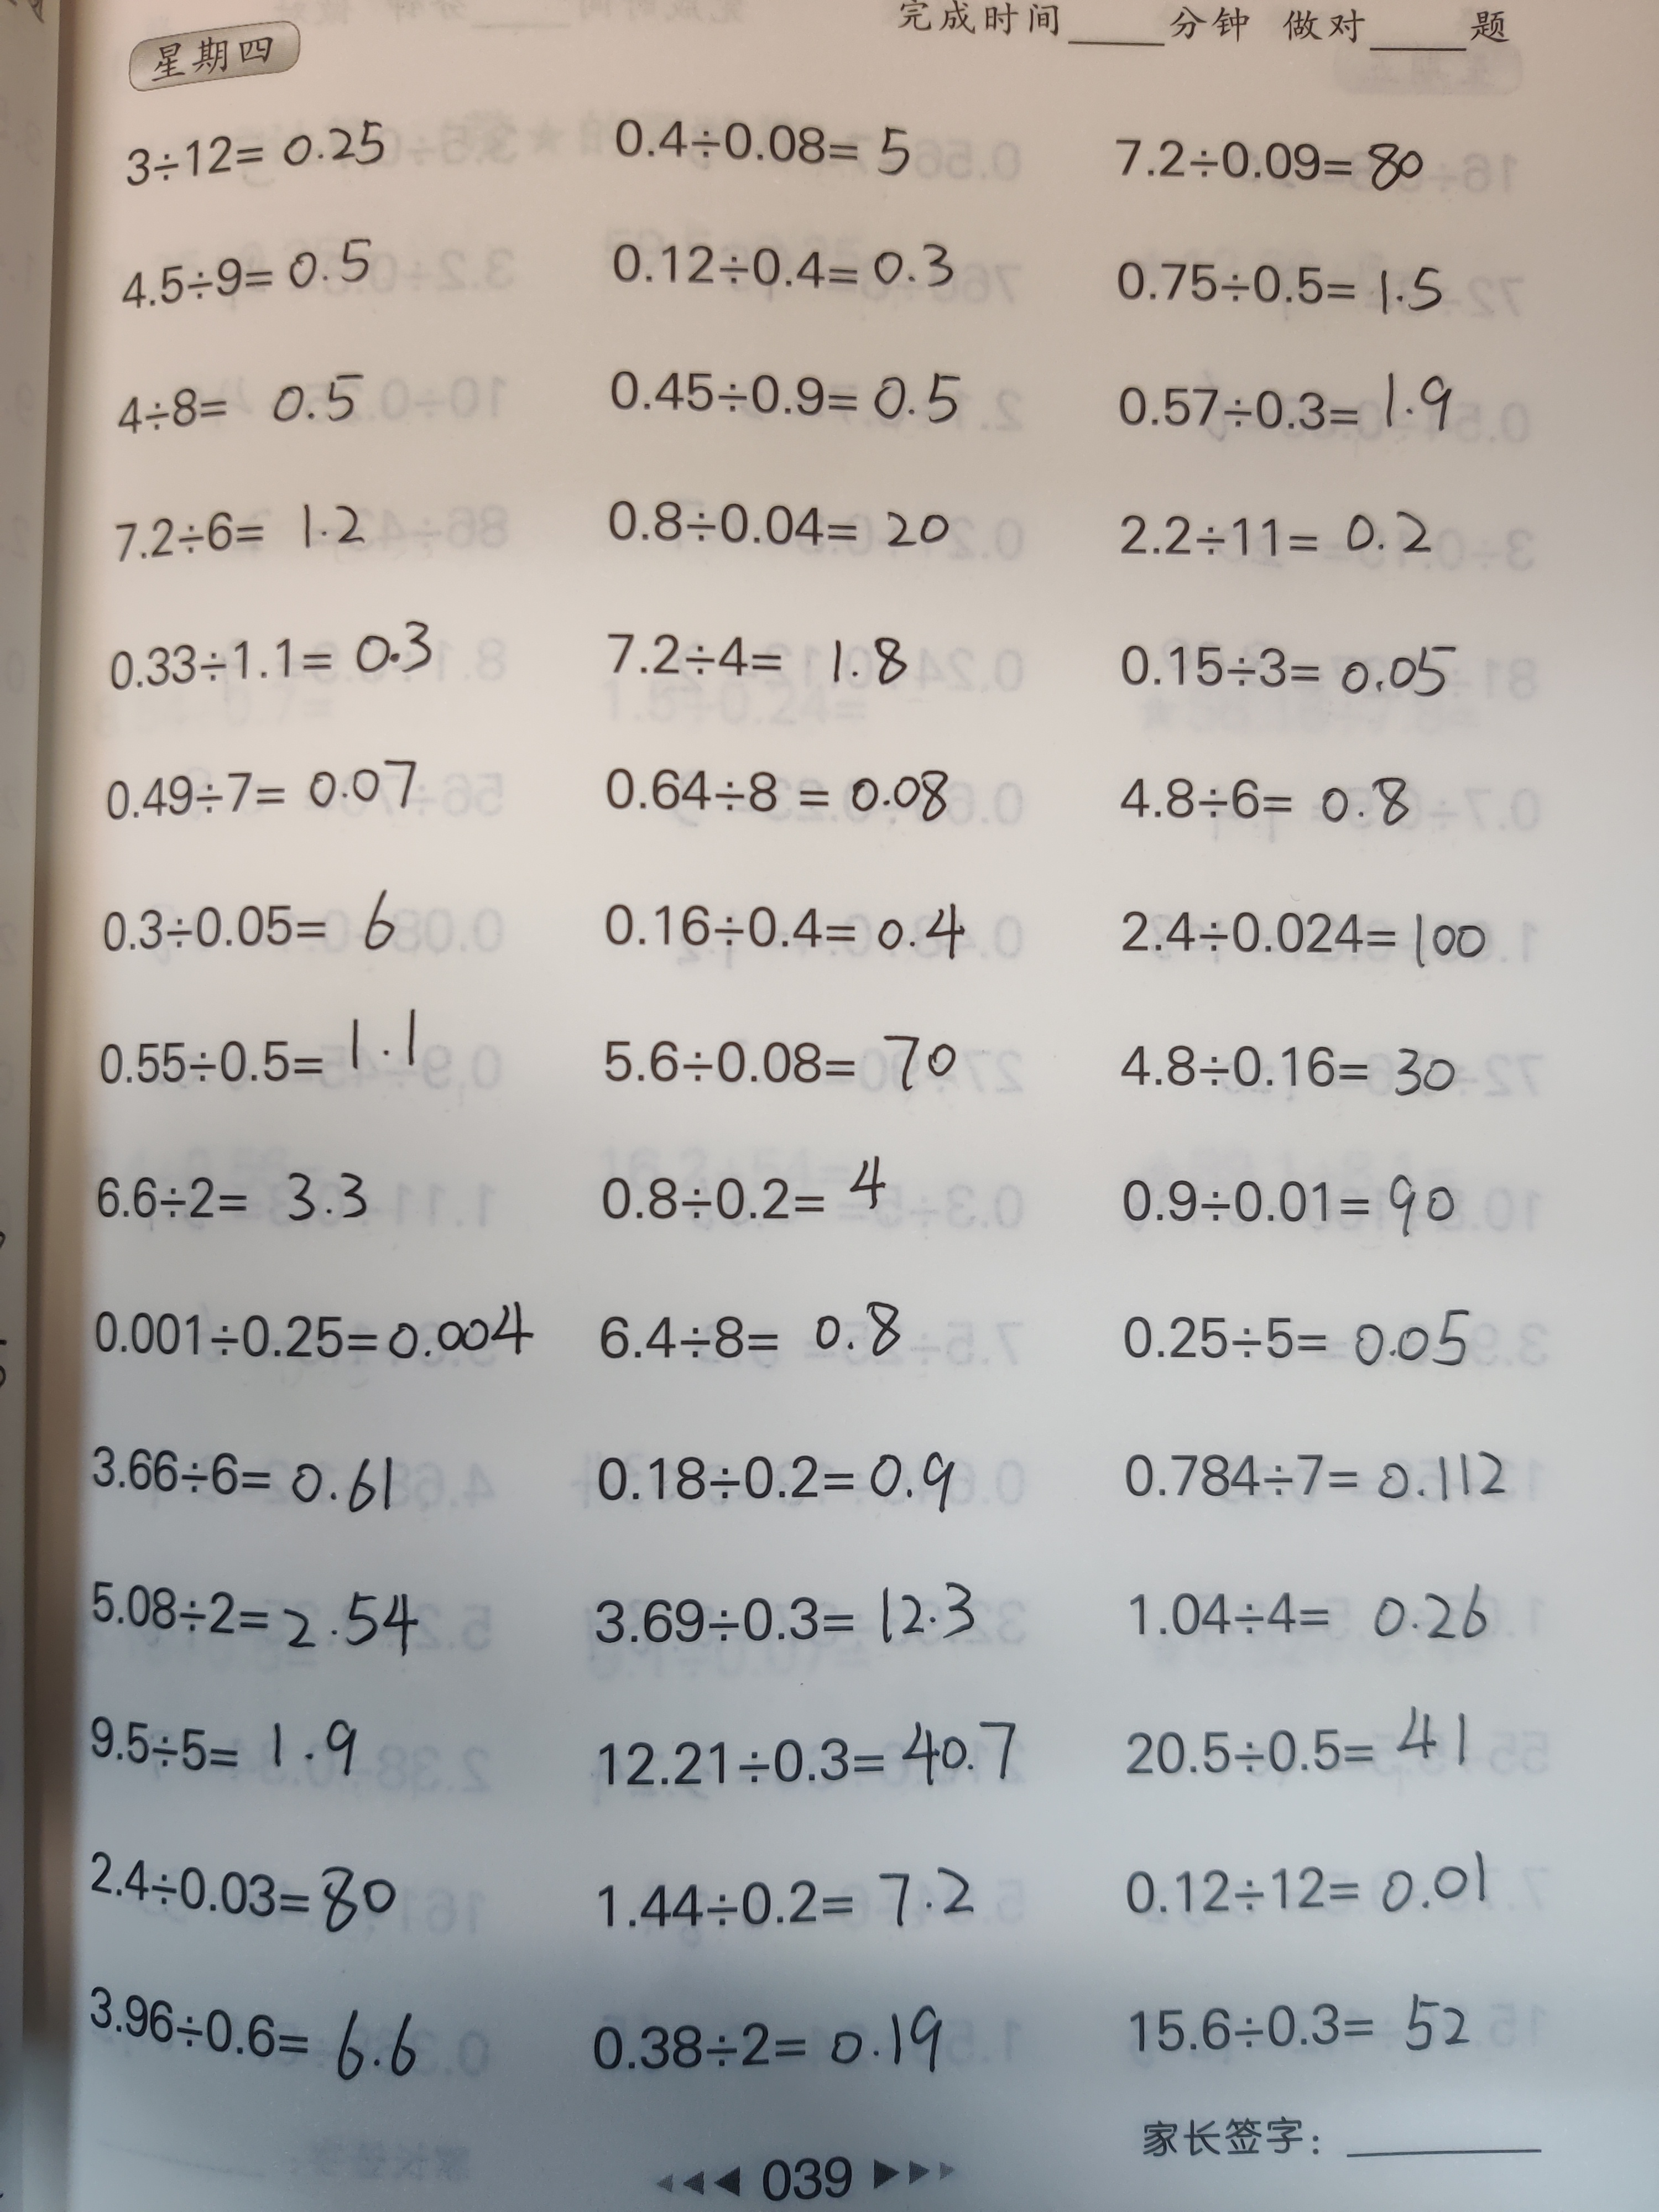equation: (1101, 1834, 1497, 1952), (573, 1709, 1023, 1808), (587, 993, 978, 1106), (591, 866, 971, 981), (80, 1543, 429, 1667), (85, 1282, 535, 1376), (582, 1430, 972, 1538), (1112, 1428, 1516, 1529), (1114, 1695, 1492, 1803), (582, 1991, 960, 2097), (591, 738, 962, 846), (80, 1979, 434, 2092), (582, 1573, 990, 1667), (1107, 1298, 1485, 1399), (1124, 1566, 1499, 1663), (586, 1858, 997, 1947), (594, 348, 979, 442), (580, 89, 934, 190), (1112, 1150, 1459, 1252), (1100, 890, 1499, 979), (1098, 230, 1453, 329), (92, 742, 432, 845), (84, 1000, 434, 1099), (594, 216, 962, 310), (78, 1834, 397, 1942), (99, 606, 451, 704), (1107, 1012, 1460, 1108), (594, 472, 965, 563), (1100, 359, 1466, 449), (1105, 1984, 1478, 2069), (587, 1139, 913, 1237), (1105, 108, 1429, 204), (594, 611, 910, 709), (84, 1430, 411, 1522), (1100, 495, 1448, 580), (592, 1291, 927, 1379), (75, 1696, 366, 1796), (1112, 632, 1467, 712), (112, 223, 390, 320), (1107, 759, 1420, 845), (87, 885, 411, 967), (112, 101, 404, 190), (106, 359, 385, 451), (84, 1158, 394, 1231), (105, 493, 390, 570)
